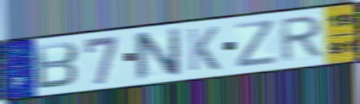7: (82, 34, 121, 86)
B: (33, 40, 81, 92)
K: (186, 25, 222, 73)
N: (131, 25, 183, 83)
R: (279, 14, 326, 65)
Z: (234, 18, 280, 70)
